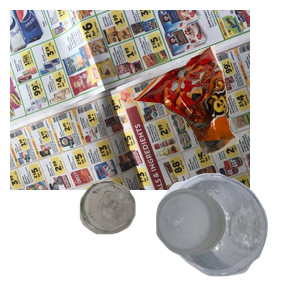glass: (77, 178, 205, 300)
paper: (10, 10, 250, 190)
plastic: (153, 170, 300, 300)
trash: (130, 43, 300, 190)
